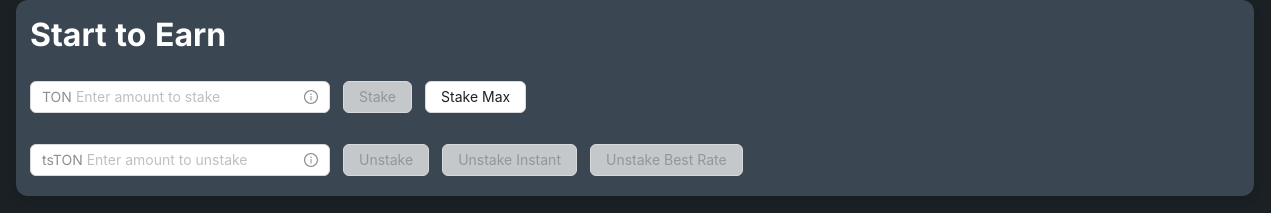
Test: TonstackersManageUI › displays insufficient balance message for staking when stake amount exceeds tonBalance
Step 1. Type "200" into the number field with placeholder "Enter amount to stake" → (188,97), box left=76, top=86, right=300, bottom=108
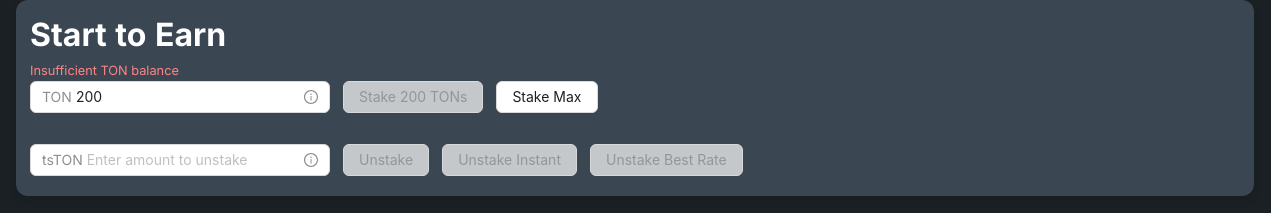
expect the button "Stake 200 TONs" is disabled: met, box left=343, top=81, right=483, bottom=113
expect the text "Insufficient TON balance" is shown: met, box left=30, top=61, right=179, bottom=80
